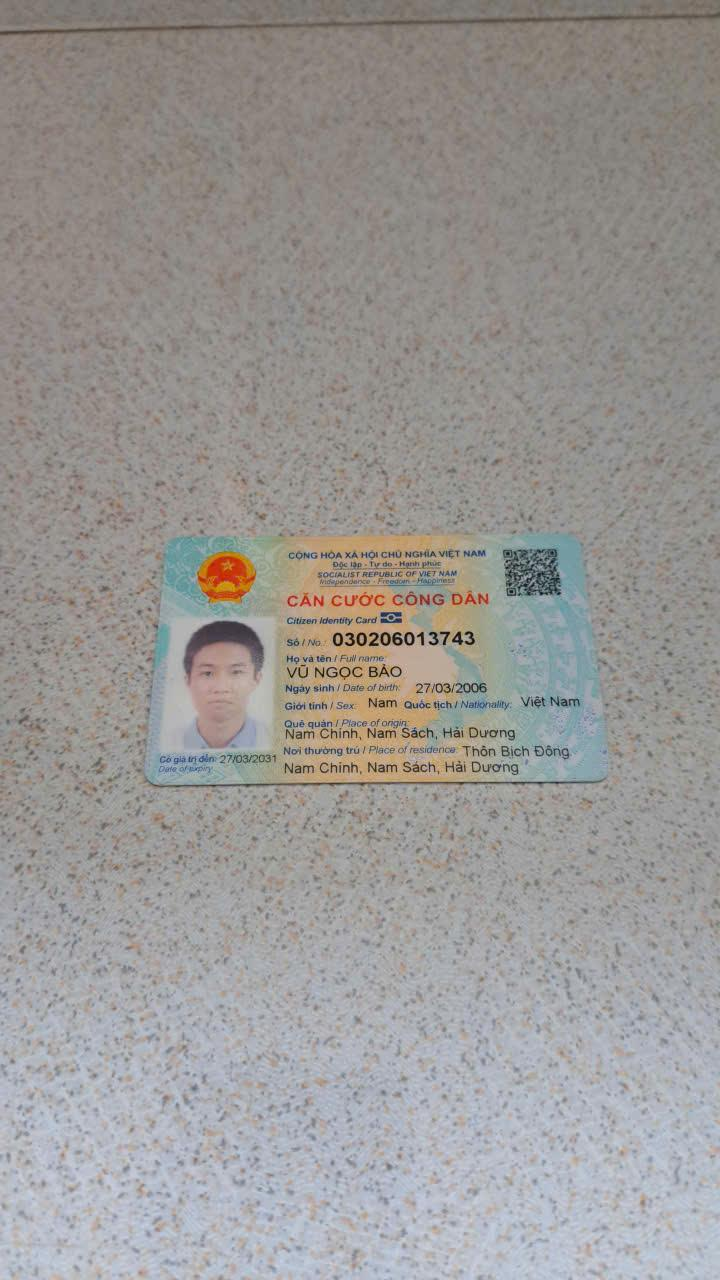cccd: (120, 522, 618, 793)
